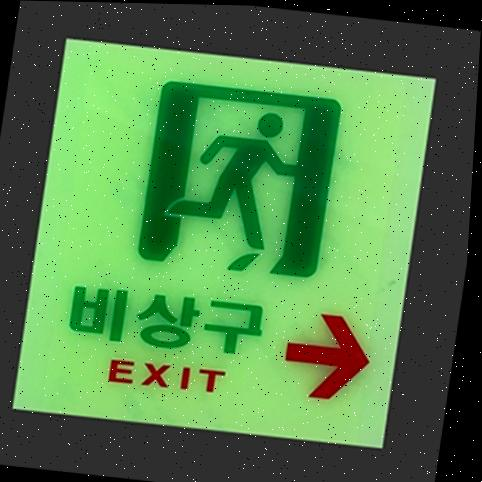emergency_exit: (2, 3, 478, 480), (10, 35, 438, 451)
